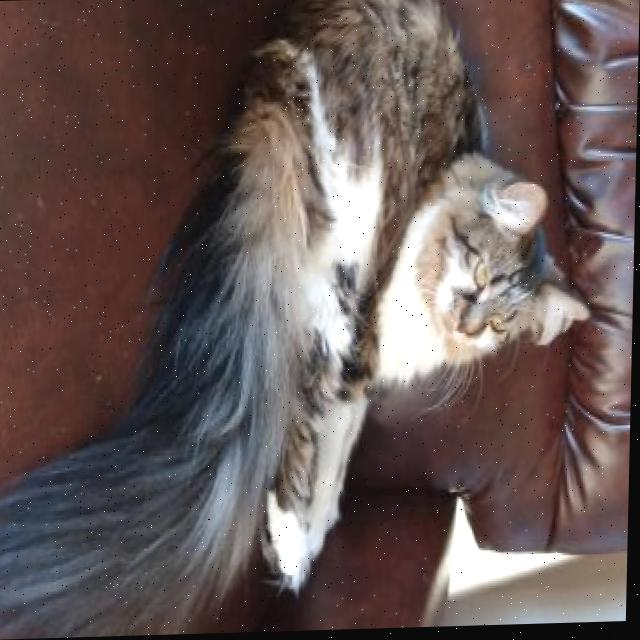Maine Coon: (0, 0, 603, 640)
